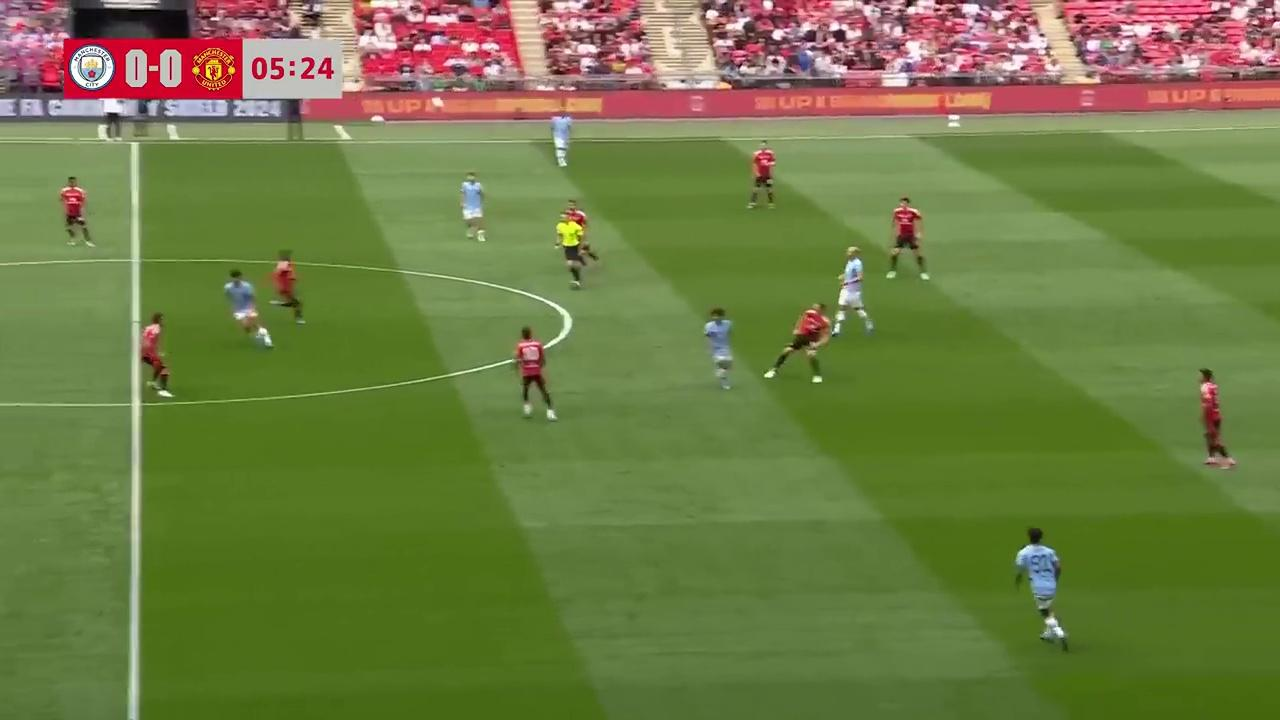player: (1014, 527, 1068, 649), (765, 301, 834, 384), (513, 326, 558, 420), (1198, 369, 1238, 470), (223, 269, 272, 347), (885, 195, 929, 281), (833, 245, 875, 335), (139, 312, 174, 399), (266, 252, 306, 327), (58, 176, 94, 247), (703, 306, 733, 390), (562, 200, 599, 267), (746, 142, 777, 210), (460, 172, 487, 242), (550, 112, 572, 168)
referee: (554, 210, 590, 288)
